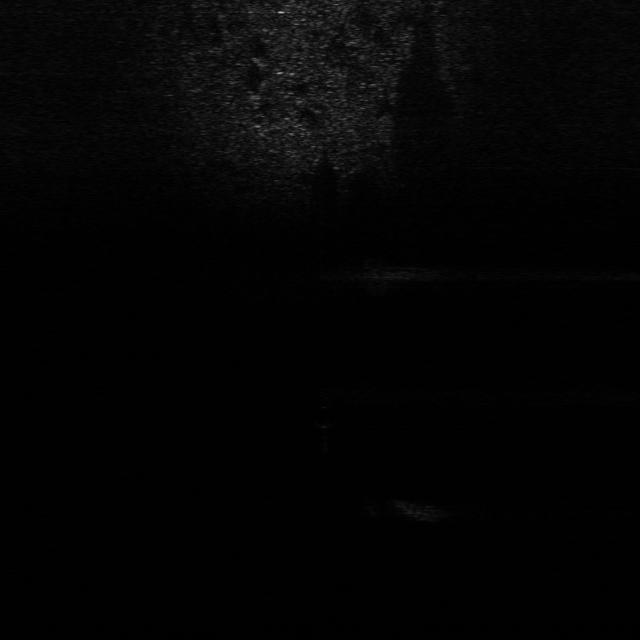ball: (308, 406, 341, 428)
metal bucket: (383, 491, 452, 525)
